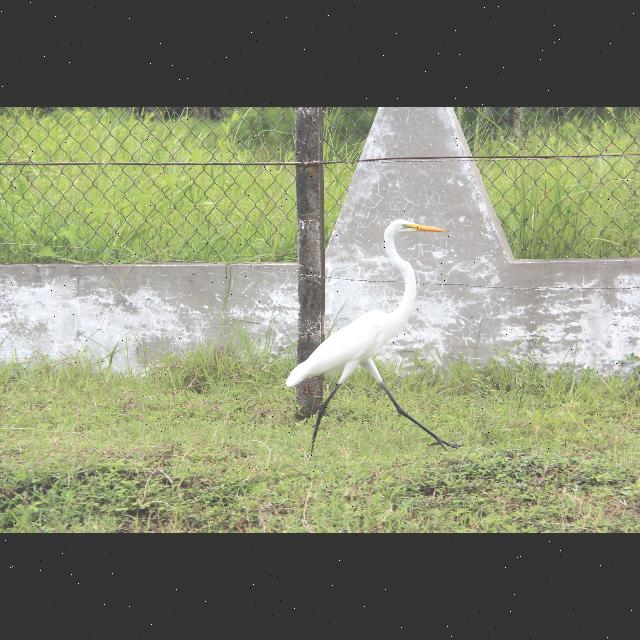egret: (290, 219, 476, 451)
